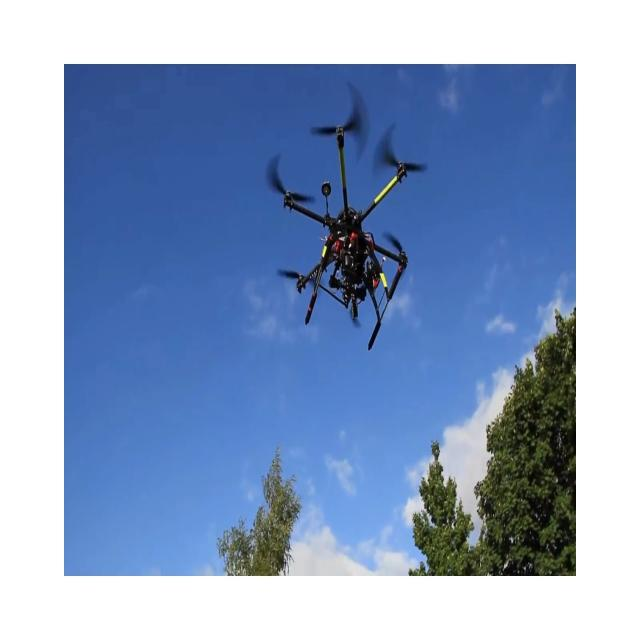drone: (265, 83, 428, 351)
